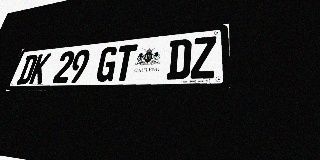2: (52, 50, 76, 83)
9: (67, 49, 91, 83)
D: (166, 38, 192, 80), (16, 54, 39, 84)
G: (94, 46, 119, 82)
K: (28, 53, 52, 84)
T: (113, 44, 138, 81)
Z: (190, 36, 216, 79)
